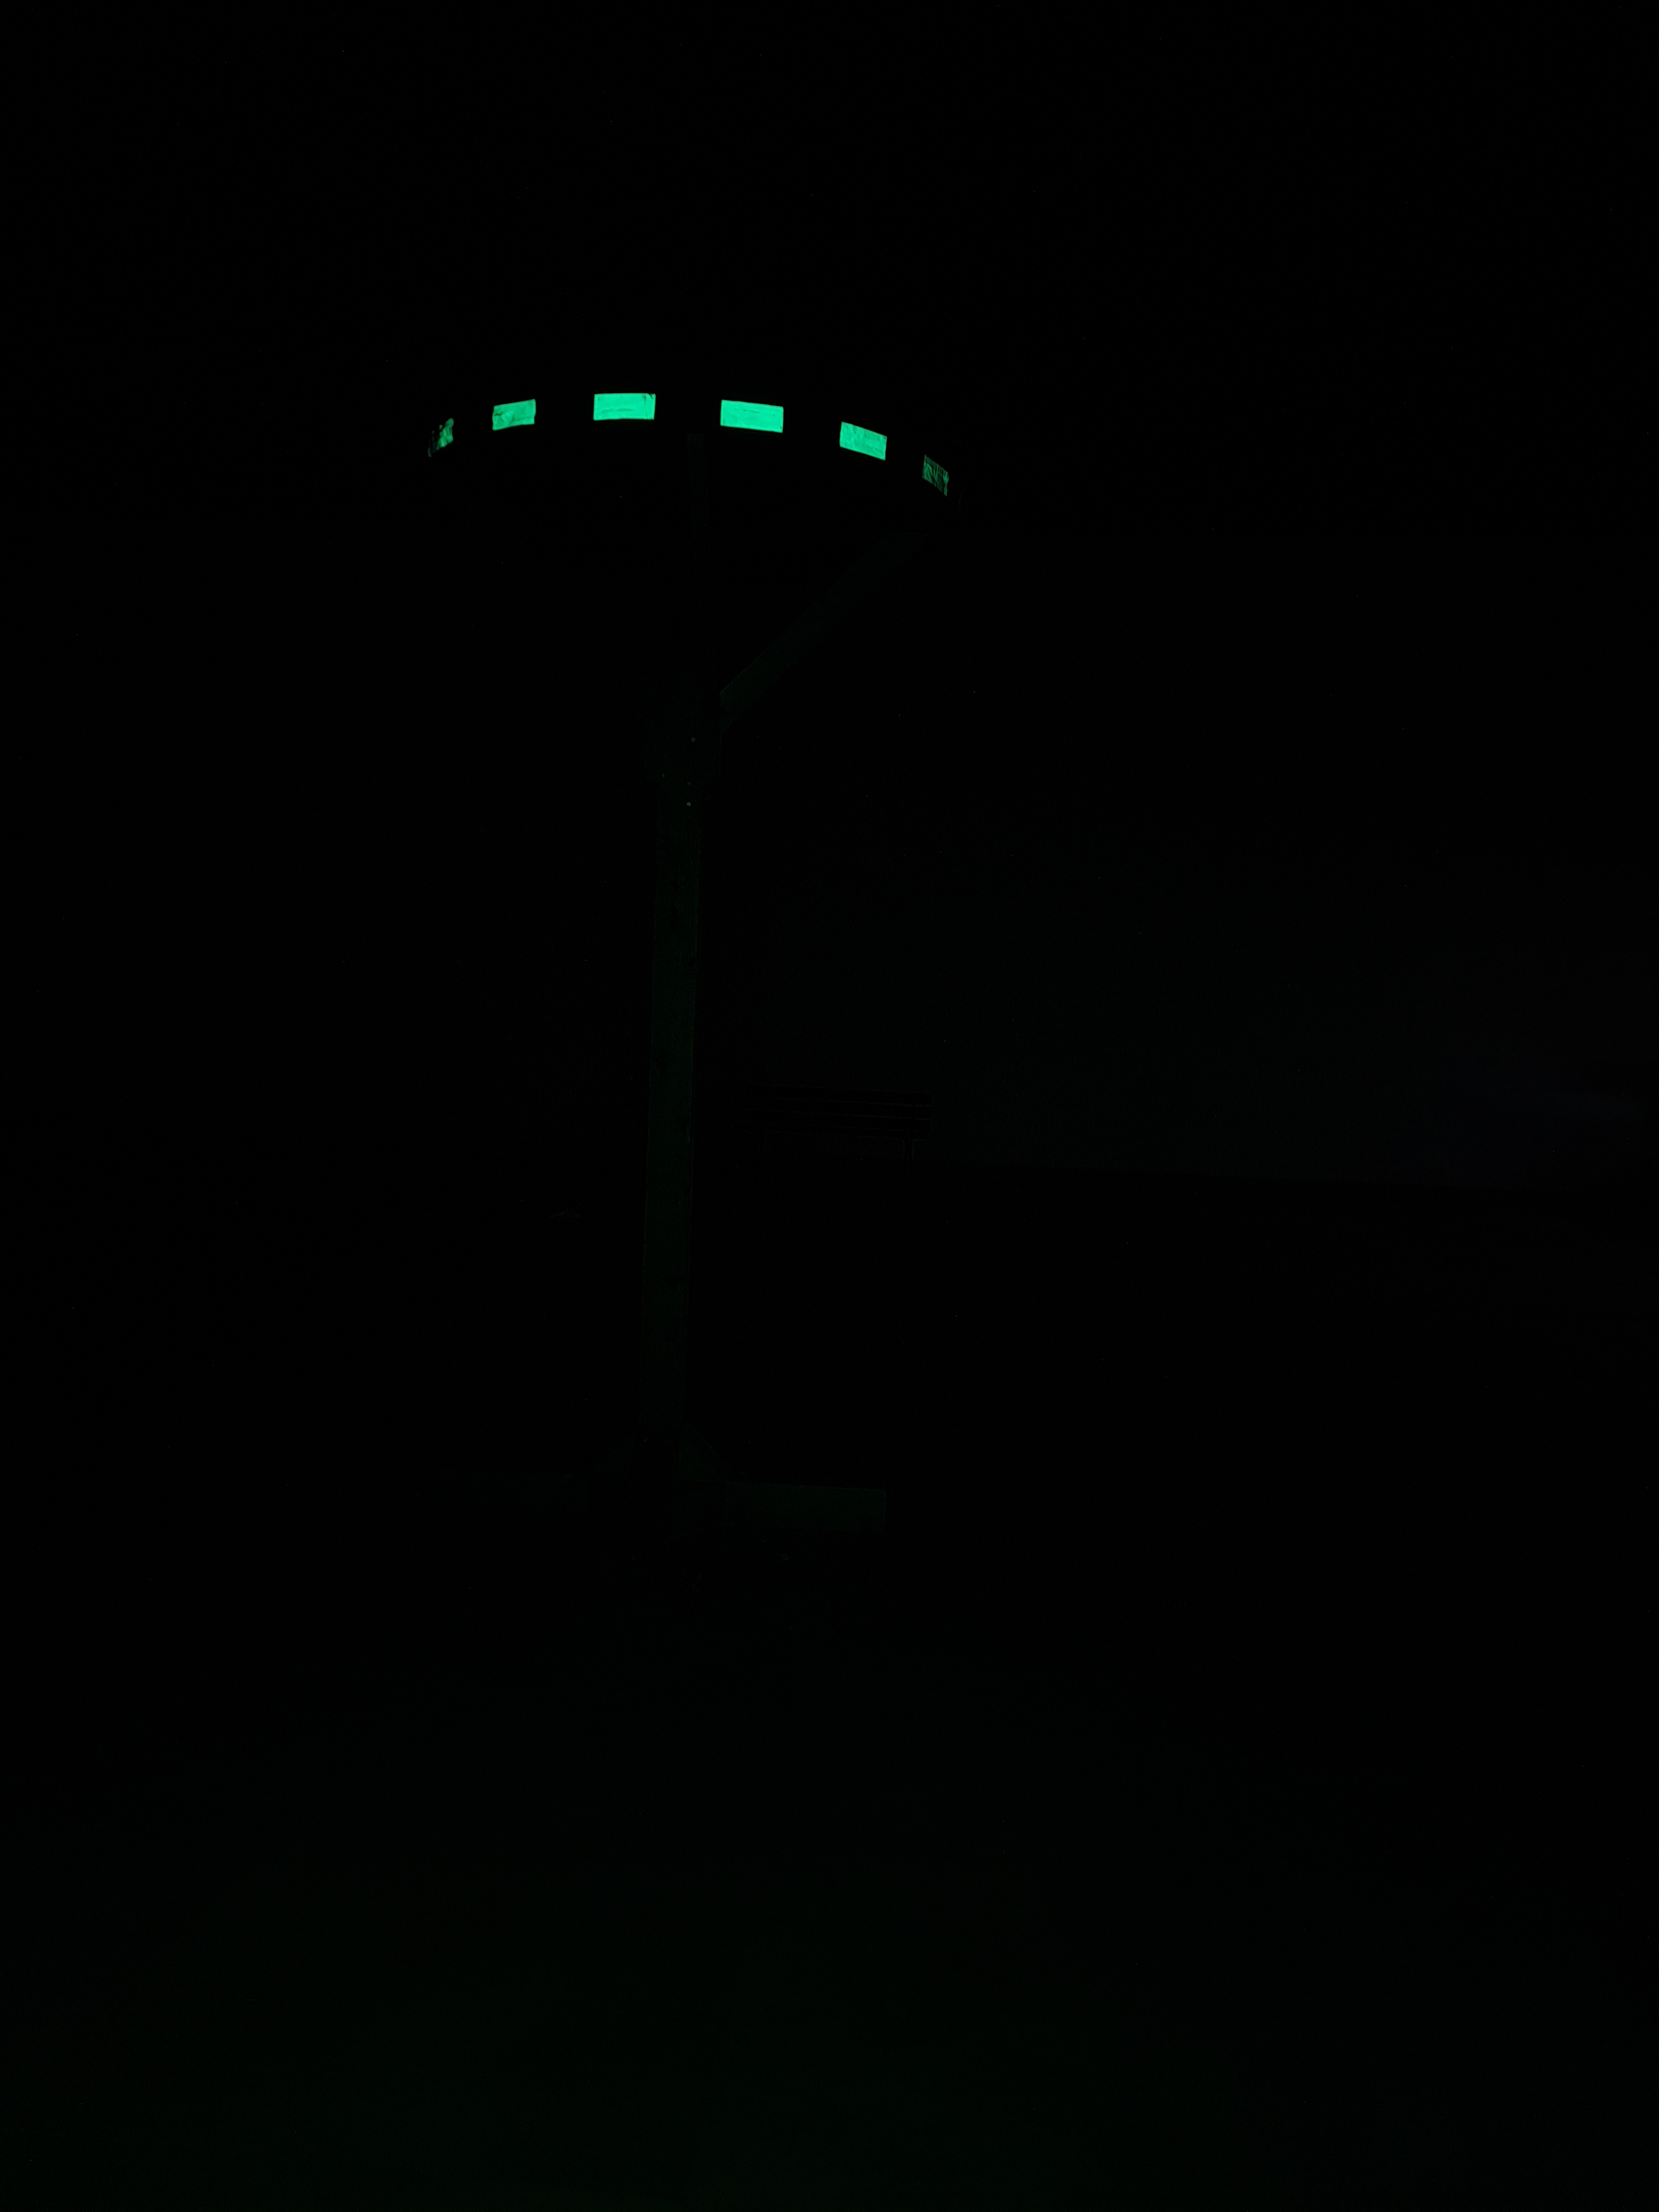hoop: (423, 388, 958, 505)
